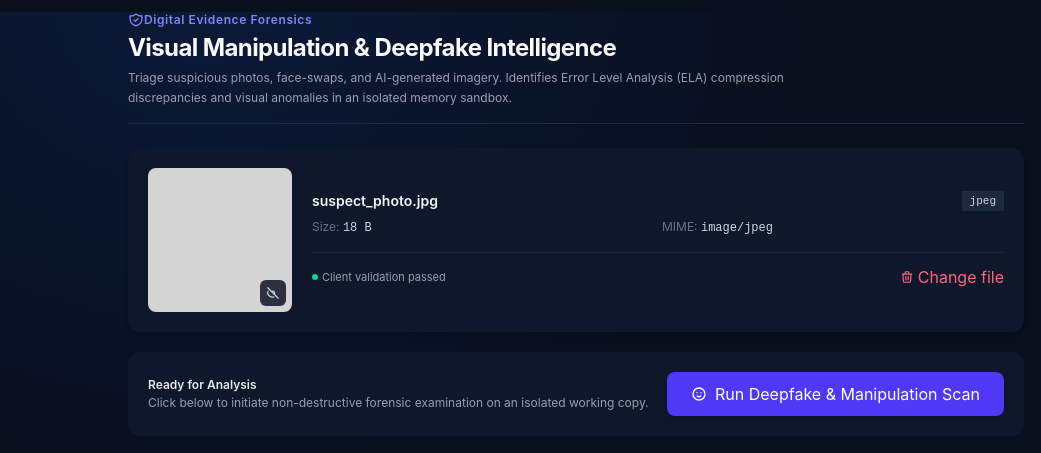
Scenario: SafeImageAnalysisWorkflow Component › cleans up object URL and state when removing selected file
The image size is (1041, 453).
Earlier steps of the test are not shown.
Click the button "Change file".
click(952, 277)  # box [900,265,1004,289]
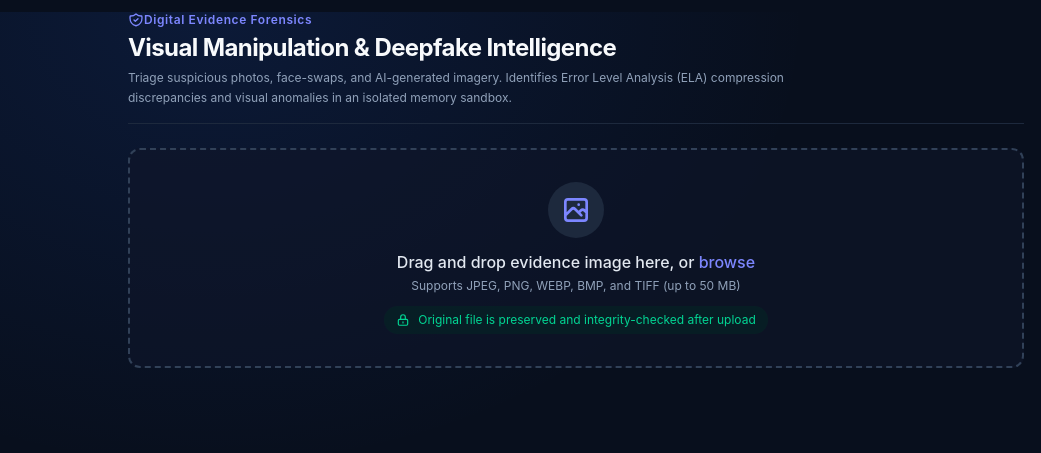
expect the text "Drag and drop evidence image here, or browse" is shown: met, box [397,250,755,274]
